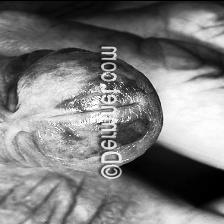Potentially Malignant Skin Tumors: (123, 142, 141, 156)
